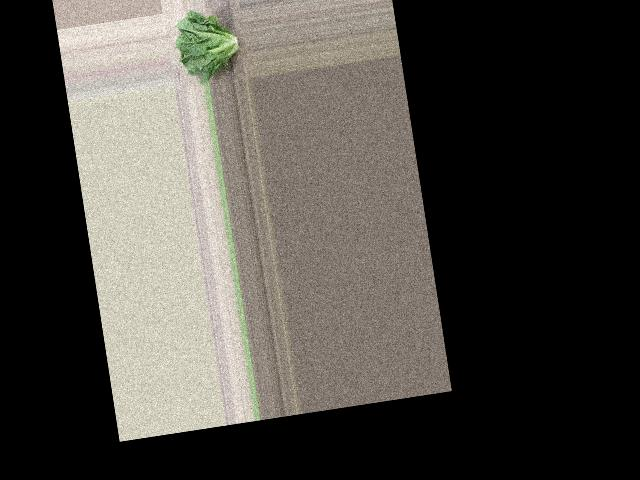lettuce: (169, 5, 248, 87)
